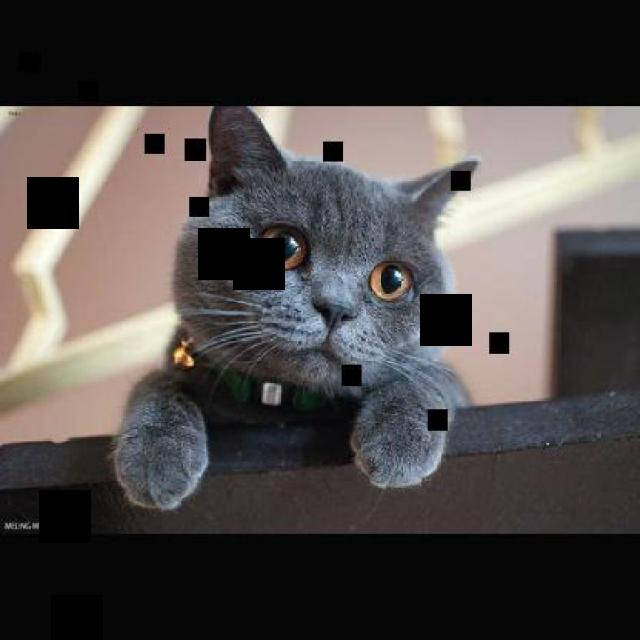unauthorized: (108, 104, 478, 510)
